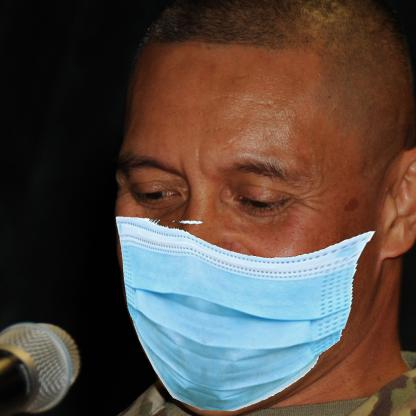Correctly_Masked: (116, 54, 371, 410)
